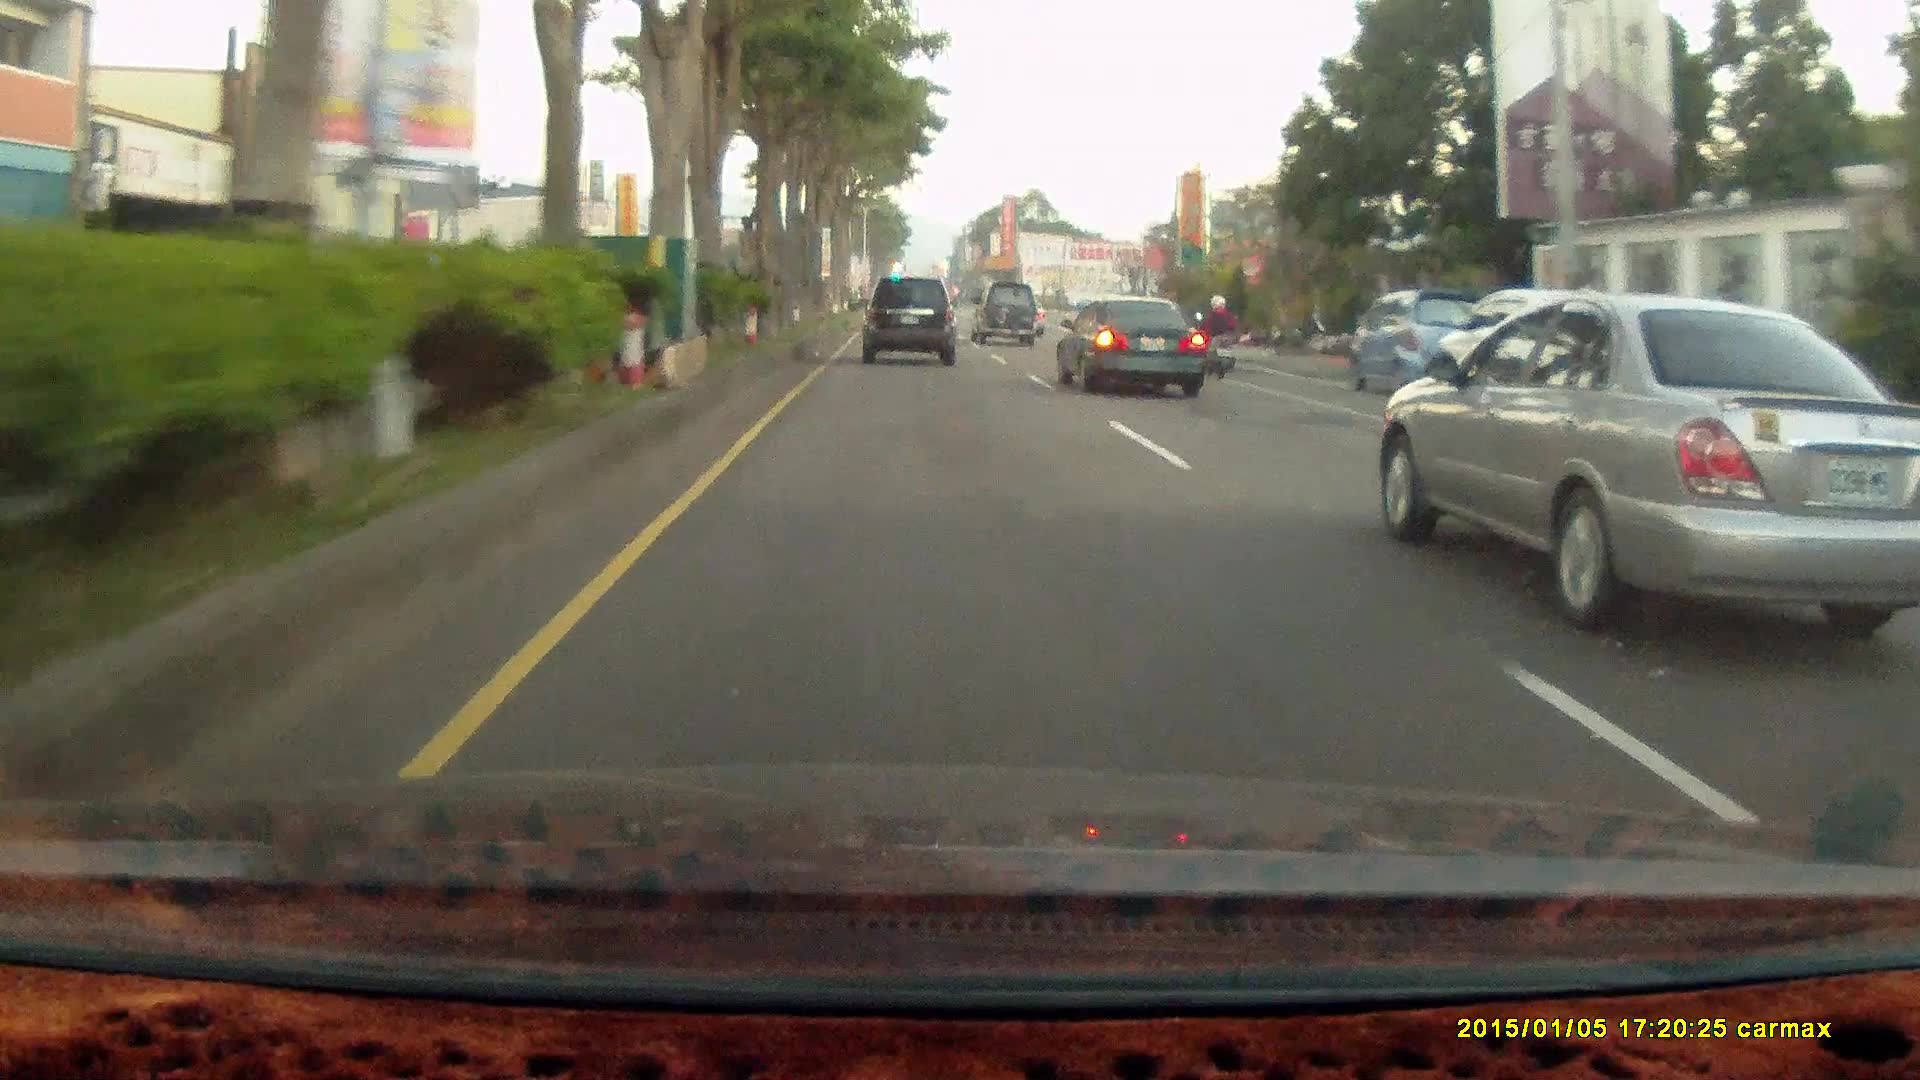rider: (1198, 295, 1240, 382)
vehicle: (1379, 299, 1920, 635), (1431, 285, 1626, 402), (1345, 292, 1502, 394), (1059, 294, 1210, 400), (1345, 288, 1502, 389), (1054, 295, 1207, 397), (859, 273, 964, 369), (857, 275, 956, 365), (971, 281, 1040, 349), (970, 280, 1038, 344)
